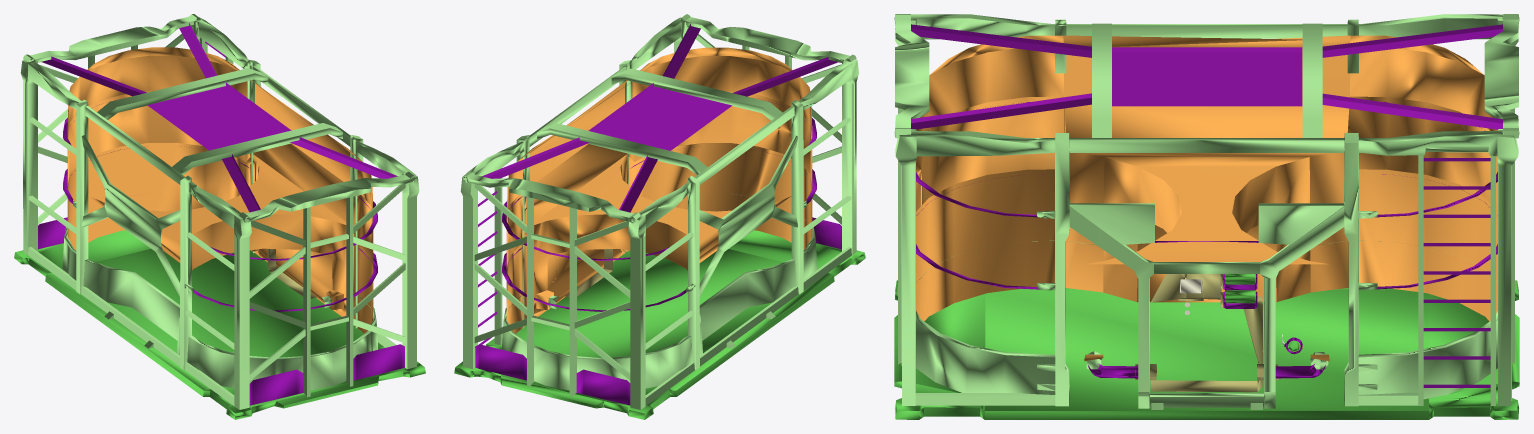
Rendered from tank_water_2_05x025x025_a.glb.
3 renders of one model, left to right at view 1: azimuth 30°, elevation 25°; view 2: azimuth 150°, elevation 25°; view 3: azimuth 270°, elevation 25°, orthographic. The views are drawn at different scales.
Bounding box in the file's own units: 2.49 × 2.5 × 5.
